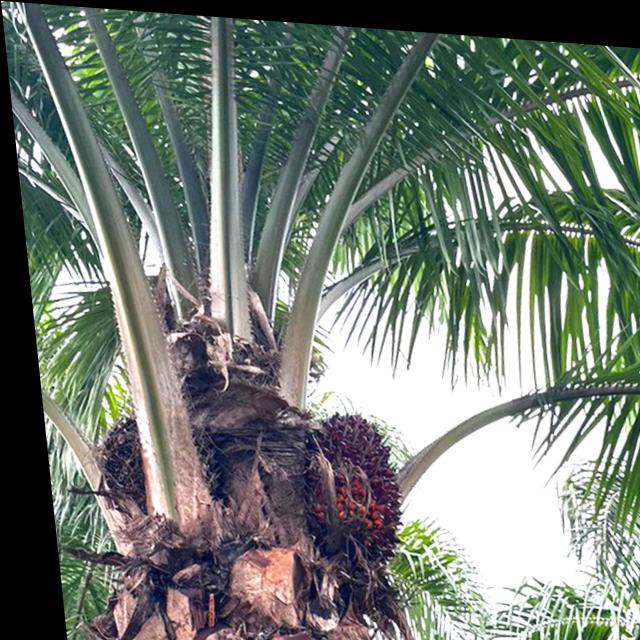ripe: (277, 390, 410, 557)
